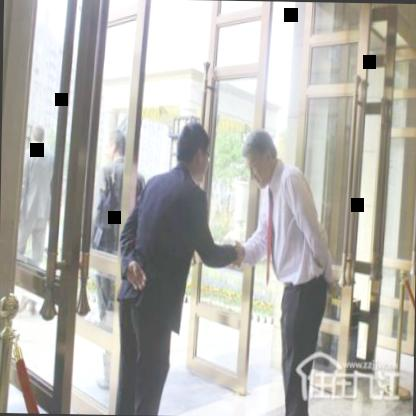head: (174, 119, 212, 187), (241, 128, 277, 190), (101, 123, 128, 176), (28, 118, 46, 150)
